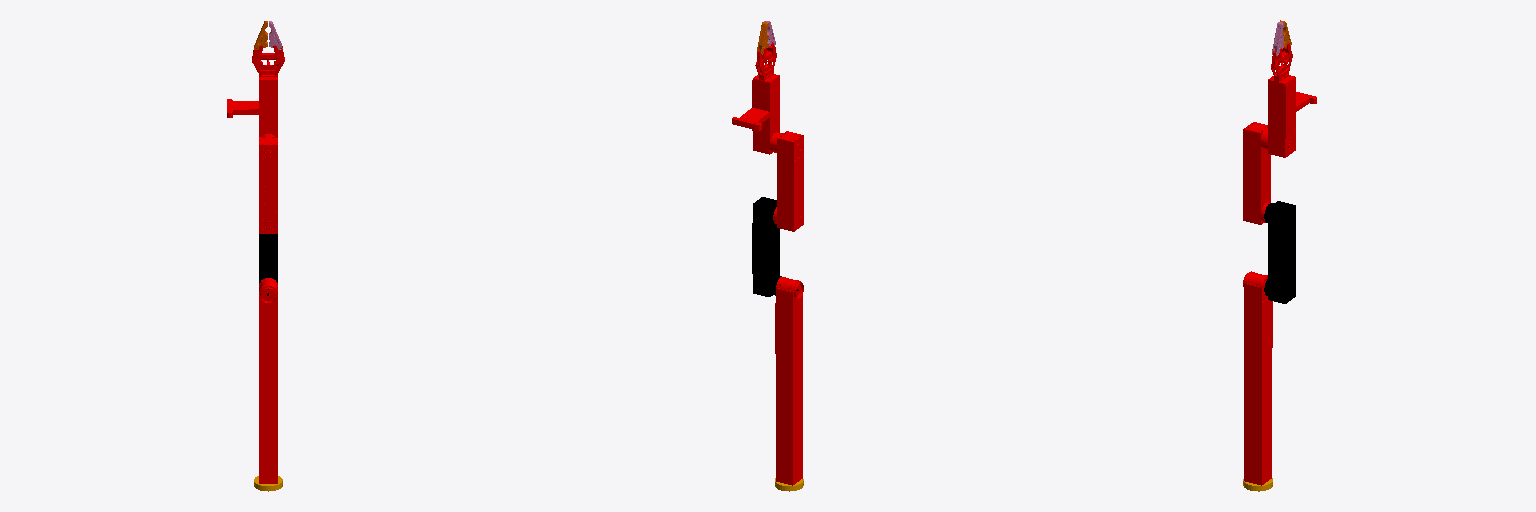
URDF robot description (baggagehandler):
<robot name="baggagehandler">
 <!-- * * * Link Definitions * * * -->
    <link name="teo_link0">
        <collision>
            <origin xyz="0 0 0" rpy="0 0 0"/>
            <geometry>
                <cylinder radius="0.075" length="0.03"/>
            </geometry>
        </collision>
        <visual>
            <origin xyz="0 0 0" rpy="0 0 0"/>
            <geometry>
                <cylinder radius="0.075" length="0.03"/>
            </geometry>
        </visual>
        <inertial>
            <mass value="200.0"/>
        </inertial>
    </link>
   <link name="teo_link1">
     <visual>
       <geometry>     
       <mesh scale=".0010 .0010 .0010" filename="../../urdf/teo_description/meshes/visual/teo_baselink_3ft_4insq v1.stl"/>
       </geometry>
       <origin rpy="0 0 0" xyz="0 0 0"/>
       <material name="red">
         <color rgba="1 0 0 1"/>
       </material>
     </visual>
   </link>
   <link name="teo_link2">
     <inertial>
       <origin rpy="0 0 0" xyz="0 0 0"/>
       <mass value="10.06512991"/>
       <inertia ixx="0.304105" ixy="0.0" ixz="0.0" iyy="0.303183" iyz="0" izz="0.003568"/>
     </inertial>
     <visual>
     <!-- origin xyz="0 0 0" rpy="0 0 0"/-->
       <geometry>
       <mesh scale=".0010 .0010 .0010" filename="../../urdf/teo_description/meshes/visual/teo_link_1ft_sq_4insq.stl"/>
       </geometry>
       <origin rpy="0 0 0" xyz="0 0 0"/>
       <material name="black">
         <color rgba="0 0 0 1"/>
       </material>
     </visual>
     <collision>
       <origin rpy="0 0 0" xyz="0 0 0"/>
       <geometry>
       <mesh scale=".0010 .0010 .0010" filename="../../urdf/teo_description/meshes/visual/teo_link_1ft_sq_4insq.stl"/>
       </geometry>
     </collision>
   </link>
   <link name="teo_link3">
     <inertial>
       <origin rpy="0 0 0" xyz="0 0 0"/>
       <mass value="10.06512991"/>
       <inertia ixx="0.304105" ixy="0.0" ixz="0.0" iyy="0.303183" iyz="0" izz="0.003568"/>
     </inertial>
     <visual>
     <!-- origin xyz="0 0 0" rpy="0 0 0"/-->
       <geometry>
       <mesh scale=".0010 .0010 .0010" filename="../../urdf/teo_description/meshes/visual/teo_link_1ft_sq_4insq.stl"/>
       </geometry>
       <origin rpy="0 0 0" xyz="0 0 0"/>
       <material name="red">
         <color rgba="1 0 0 0"/>
       </material>
     </visual>
     <collision>
       <origin rpy="0 0 0" xyz="0 0 0"/>
       <geometry>
       <mesh scale=".0010 .0010 .0010" filename="../../urdf/teo_description/meshes/visual/teo_link_1ft_sq_4insq.stl"/>
       </geometry>
     </collision>
    </link>
    <link name="teo_head">
     <inertial>
       <origin rpy="0 0 0" xyz="0 0 0"/>
       <mass value="10.06512991"/>
       <inertia ixx="0.304105" ixy="0.0" ixz="0.0" iyy="0.303183" iyz="0" izz="0.003568"/>
     </inertial>
     <visual>
     <!-- origin xyz="0 0 0" rpy="0 0 0"/-->
       <geometry>
       <mesh scale=".0010 .0010 .0010" filename="../../urdf/teo_description/meshes/visual/teo_gripper_head_urdf v2.stl"/>
       </geometry>
       <origin rpy="0 0 0" xyz="0 0 0"/>
       <material name="red">
         <color rgba="1 0 0 0"/>
       </material>
     </visual>
     <collision>
       <origin rpy="0 0 0" xyz="0 0 0"/>
       <geometry>
       <mesh scale=".0010 .0010 .0010" filename="../../urdf/teo_description/meshes/visual/teo_gripper_head_urdf v2.stl"/>
       </geometry>
     </collision>
   </link>
<!-- * * * Joint Definitions * * * -->
<joint name="teo_joint0" type="revolute">
    <axis xyz="0 0 1" />
    <parent link="teo_link0" />
    <child link ="teo_link1" />
    <origin xyz="0 0 0" rpy="0 0 0"/>
    <dynamics damping="10.0"/>
    <limit effort="9.8" lower="-2.8973" upper="2.8973" velocity="1.57"/>    
</joint>
<joint name="teo_joint1" type="revolute">
    <parent link="teo_link1"/>
    <child link="teo_link2"/>
    <origin xyz="0.065 0 1.102" rpy="0 0 0"/>
    <dynamics damping="10.0"/>
    <limit effort="9.8" lower="-2.8973" upper="2.8973" velocity="1.57"/>
</joint>
<joint name="teo_joint2" type="revolute">
    <parent link="teo_link2"/>
    <child link="teo_link3"/>
    <origin xyz="0 0 0.405" rpy="0 0 3.14"/>
    <dynamics damping="10.0"/>
    <limit effort="9.8" lower="-2.8973" upper="2.8973" velocity="1.57"/>
</joint>
<joint name="teo_joint3" type="revolute">
    <parent link="teo_link3"/>
    <child link="teo_head"/>
    <origin xyz="0 0 0.405" rpy="0 0 3.14"/>
    <dynamics damping="10.0"/>
    <limit effort="9.8" lower="-2.8973" upper="2.8973" velocity="1.57"/>
</joint>

  <link name="teo_gripper_top">
    <visual>
      <geometry>
        <mesh scale=".0010 .0010 .0010" filename="../../urdf/teo_description/meshes/visual/teo_gripper_top_urdf v2.stl"/>
      </geometry>
    </visual>
    <collision>
      <geometry>
        <mesh scale=".0010 .0010 .0010" filename="../../urdf/teo_description/meshes/visual/teo_gripper_top_urdf v2.stl"/>
      </geometry>
    </collision>
  </link>
  <link name="teo_gripper_bottom">
    <visual>
      <origin rpy="0 0 0" xyz="0 0 0"/>
      <geometry>
        <mesh scale=".0010 .0010 .0010" filename="../../urdf/teo_description/meshes/visual/teo_gripper_bottom_urdf v2.stl"/>
      </geometry>
    </visual>
    <collision>
      <origin rpy="0 0 0" xyz="0 0 0"/>
      <geometry>
        <mesh scale=".0010 .0010 .0010" filename="../../urdf/teo_description/meshes/visual/teo_gripper_bottom_urdf v2.stl"/>
      </geometry>
    </collision>
  </link>
  <joint name="teo_gripper_joint1" type="prismatic">
    <parent link="teo_head"/>
    <child link="teo_gripper_top"/>
    <origin rpy="0 0 0" xyz="0 0 0"/>
    <axis xyz="0 1 0"/>
    <dynamics damping="10.0"/>
    <limit effort="98" lower="0.0" upper="0.04" velocity="0.2"/>
  </joint>
  <joint name="teo_gripper_joint2" type="prismatic">
    <parent link="teo_head"/>
    <child link="teo_gripper_bottom"/>
    <origin rpy="0 0 0" xyz="0 0 0"/>
    <axis xyz="0 -1 0"/>
    <dynamics damping="10.0"/>
    <limit effort="98" lower="0.0" upper="0.04" velocity="0.2"/>
    <mimic joint="teo_gripper_joint1"/>
  </joint>
</robot>

--- What the picture shows (computed from the rendered views, not written in the file) ---
3 views of the same robot in one strip: view 1: azimuth 90°, elevation 25°; view 2: azimuth 150°, elevation 25°; view 3: azimuth 330°, elevation 25° (orthographic).
Model baggagehandler with 7 links and 6 joints (4 revolute, 2 prismatic), rooted at teo_link0, posed every joint at zero.
Visible links, largest first — view 1: teo_link1, teo_head, teo_link3, teo_link2; view 2: teo_link1, teo_head, teo_link3, teo_link2; view 3: teo_link1, teo_head, teo_link2, teo_link3.
Boxes of the visible links, <box> form: teo_link1: <box>259,278,277,483</box>; teo_head: <box>227,45,284,136</box>; teo_link3: <box>259,135,277,233</box>; teo_link2: <box>259,234,277,295</box>; teo_link1: <box>775,277,803,485</box>; teo_head: <box>732,42,779,154</box>; teo_link3: <box>773,131,803,231</box>; teo_link2: <box>752,197,798,296</box>; teo_link1: <box>1243,271,1272,485</box>; teo_head: <box>1264,43,1316,157</box>; teo_link2: <box>1264,201,1295,303</box>; teo_link3: <box>1243,122,1270,224</box>.
Bounding box of the posed robot: 0.298 × 0.302 × 2.6 m (x, y, z).
6 mesh visuals loaded from 5 distinct referenced files (5 binary STL).
